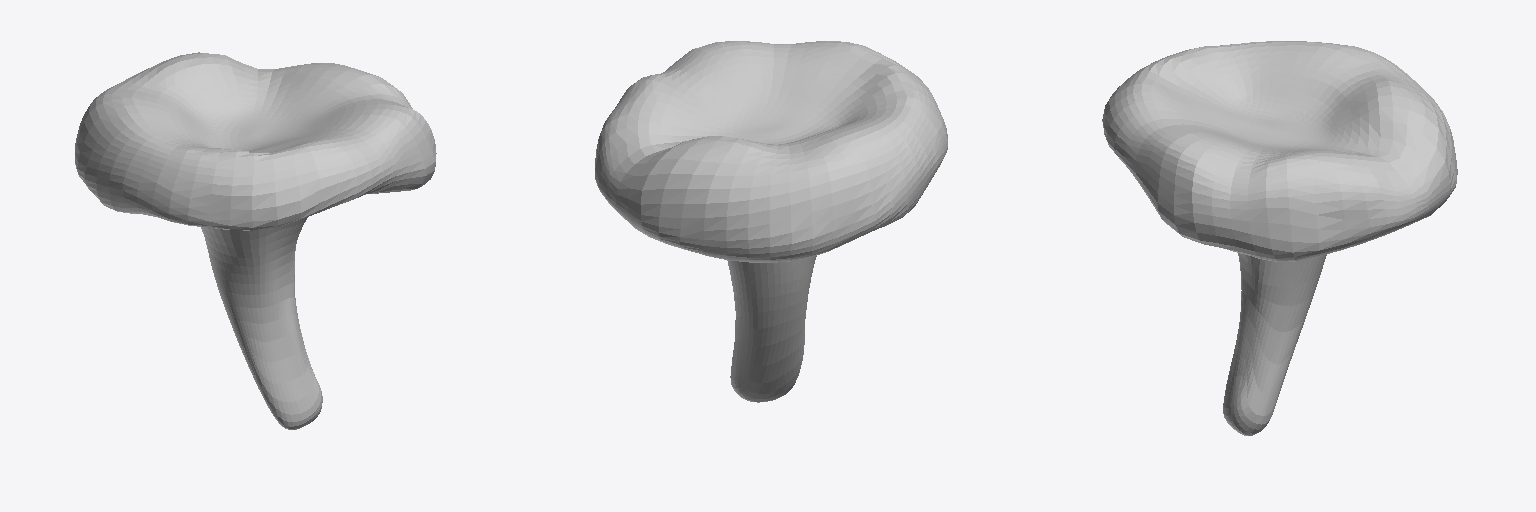
The model's file is chant.obj.
The picture shows the model from 3 angles: view 1: azimuth 30°, elevation 25°; view 2: azimuth 150°, elevation 25°; view 3: azimuth 270°, elevation 25°; orthographic projection.
Parts seen in each view (by area): view 1: Chanterelle_reuvd_Group2 group1; view 2: Chanterelle_reuvd_Group2 group1; view 3: Chanterelle_reuvd_Group2 group1.
Part boxes in pixels (left/top/right/bottom): Chanterelle_reuvd_Group2 group1: left=75, top=52, right=436, bottom=429; Chanterelle_reuvd_Group2 group1: left=595, top=41, right=947, bottom=402; Chanterelle_reuvd_Group2 group1: left=1102, top=41, right=1457, bottom=435.
Size of the model in its own units: 0.2665 by 0.2786 by 0.2737.